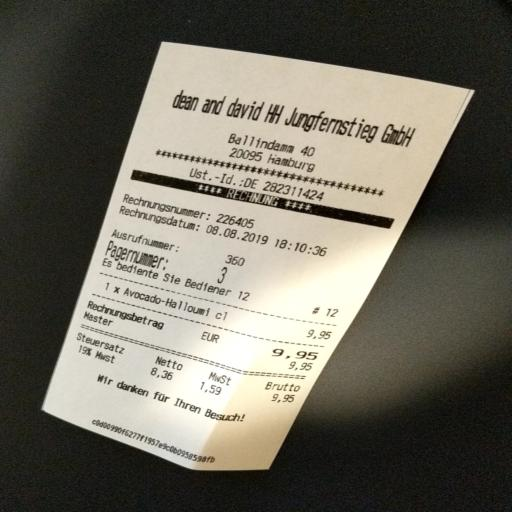paper: (25, 11, 490, 476)
